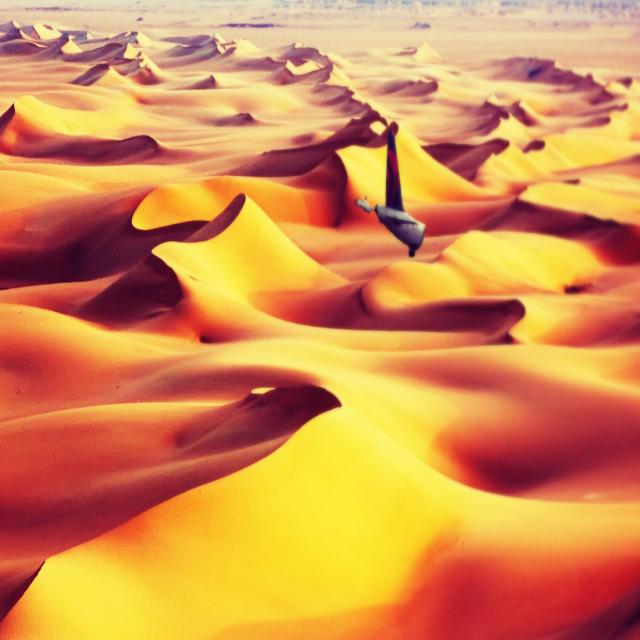airplane: (354, 120, 426, 258)
